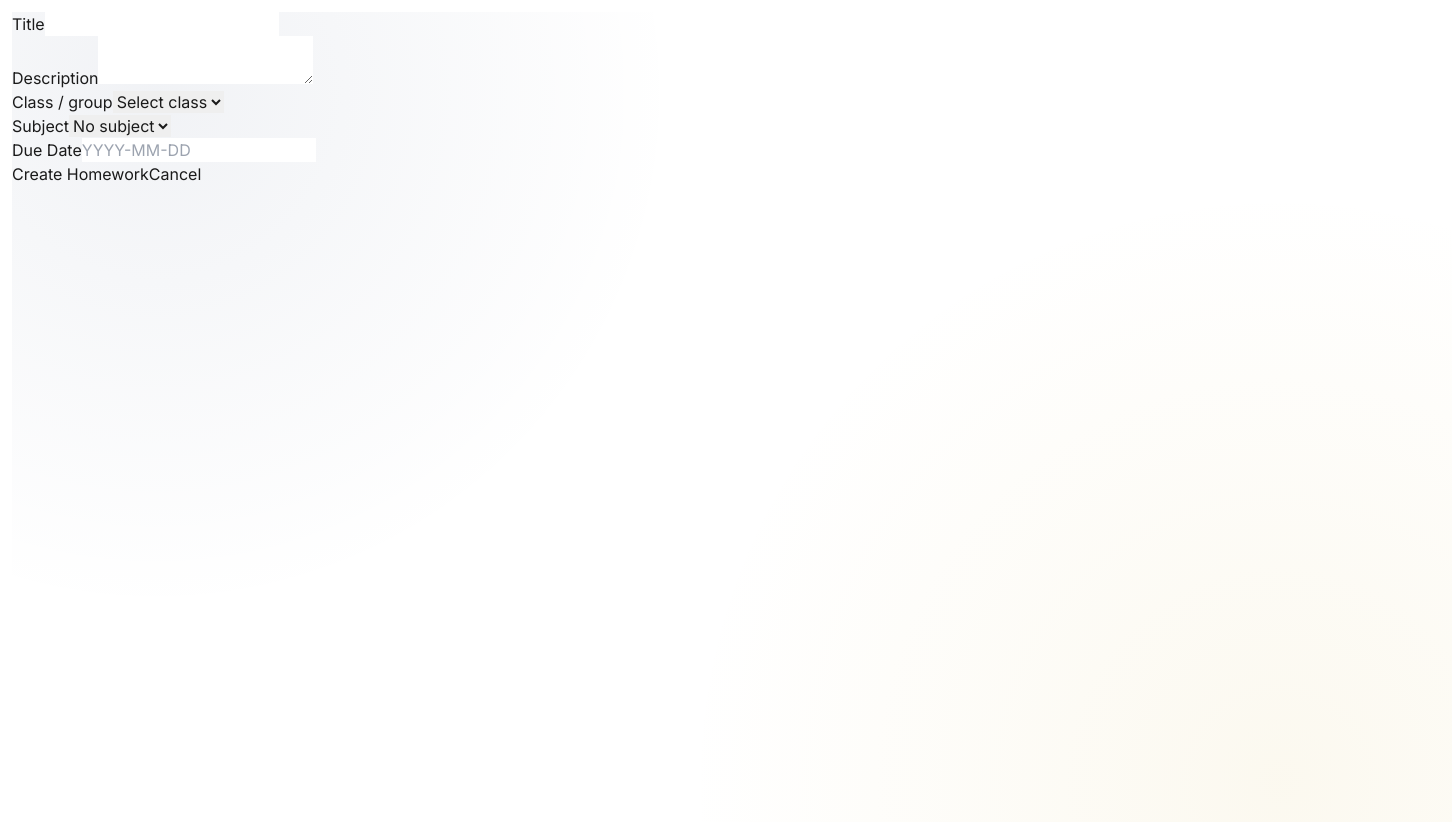
Scenario: Teacher mutation feedback › HomeworkForm shows form error feedback and preserves input on failed submit
Step 1. Type "Essay 1" into the field labelled "Title" → x=162, y=24, box [45,12,279,36]
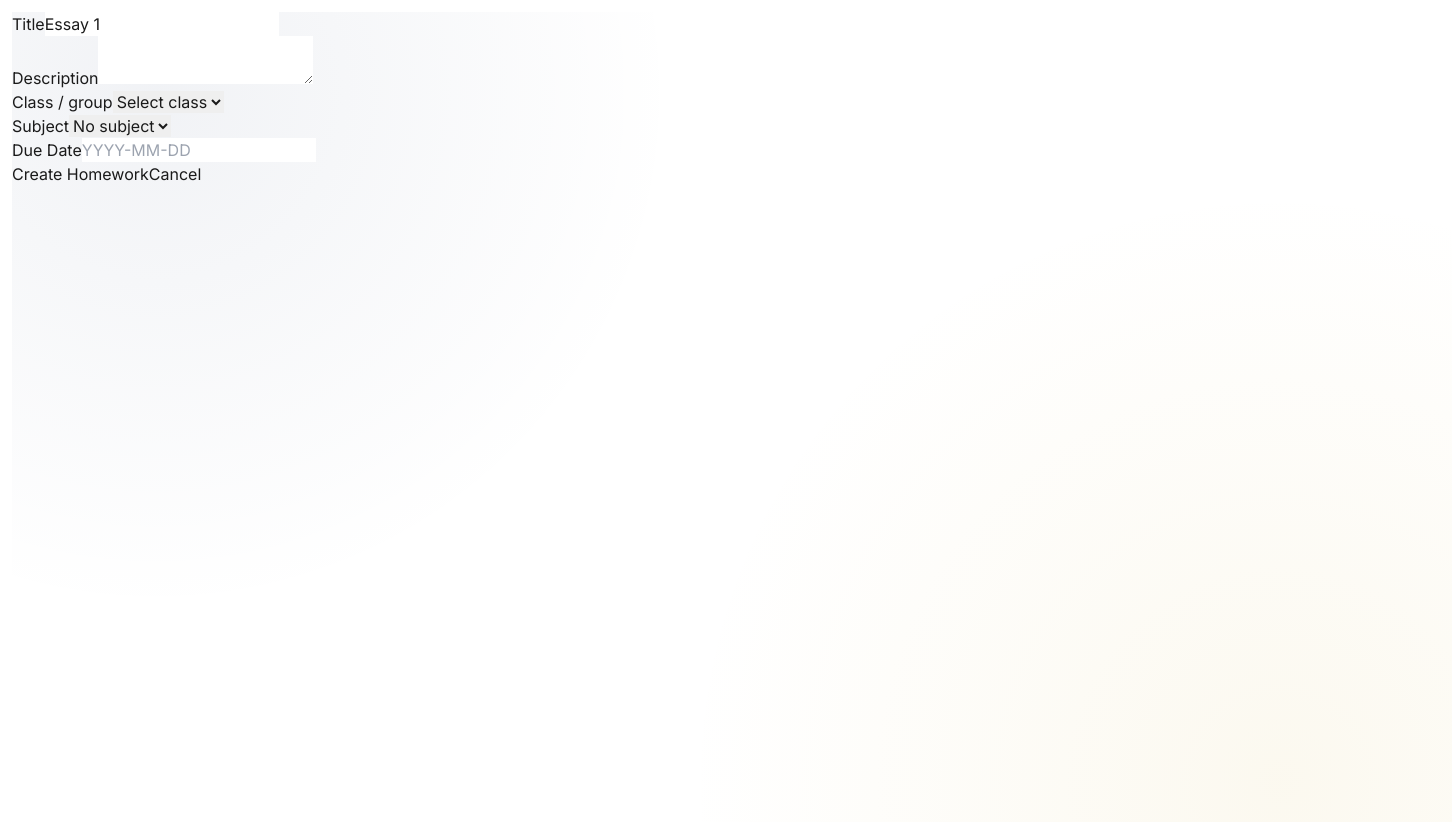
Step 2. Select "Class 1" in the dropdown labelled "Class / group" → x=168, y=102, box [113,91,224,113]
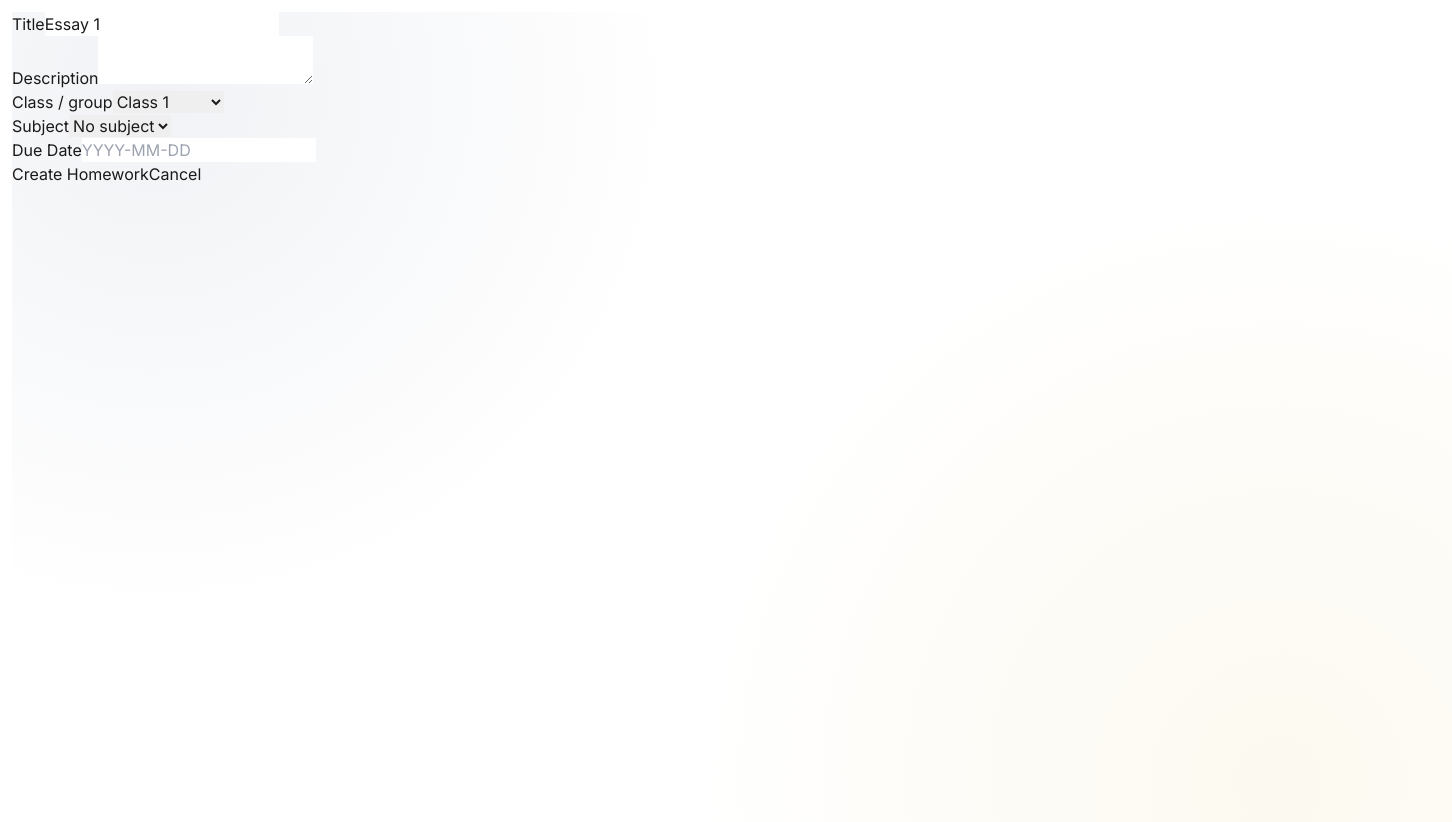
Step 3. Type "2026-05-30" into the field labelled "Due Date" → x=199, y=150, box [82,138,316,162]
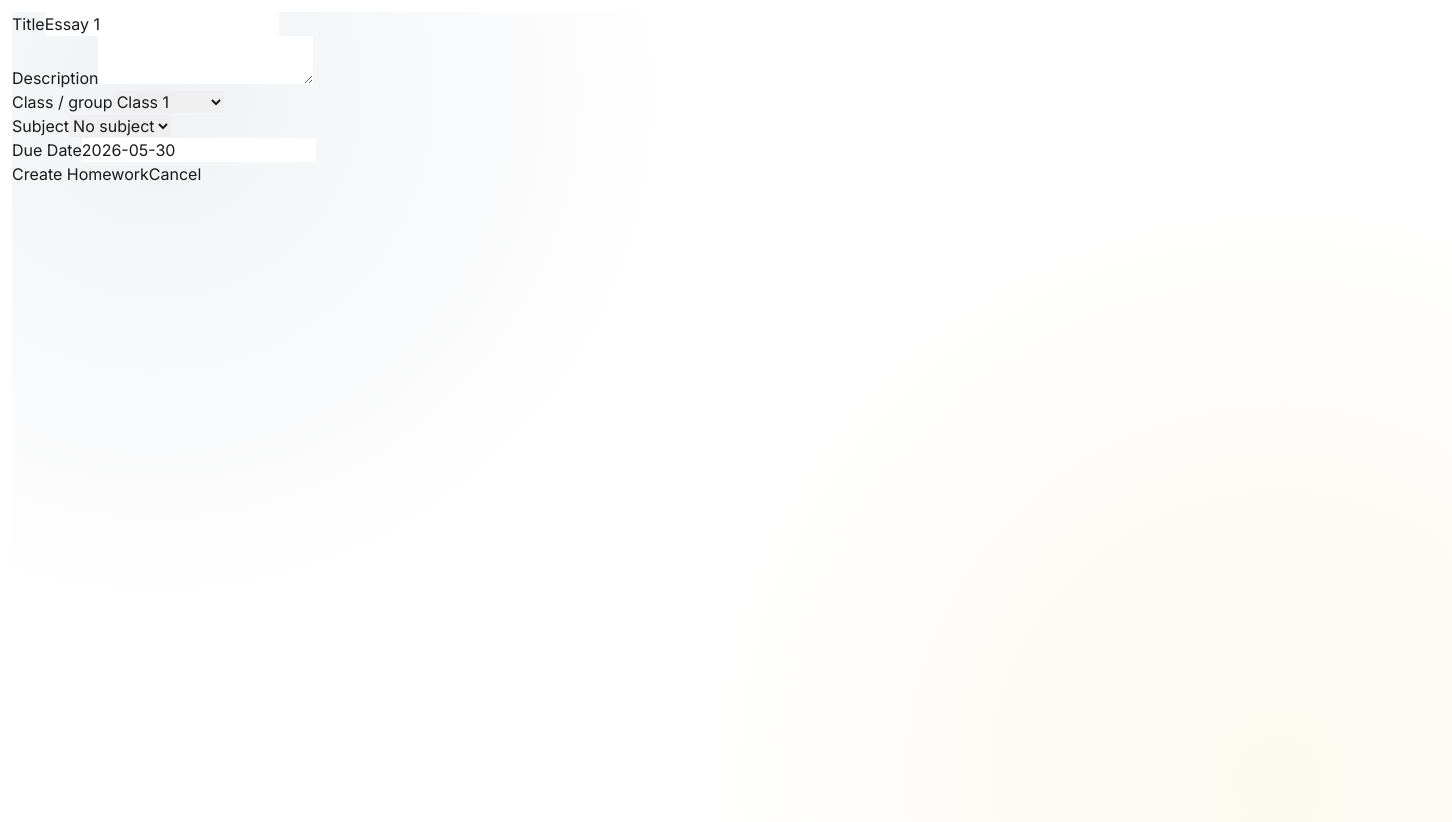
Step 4. Submit the form "Create Homework", box [12,12,316,186]
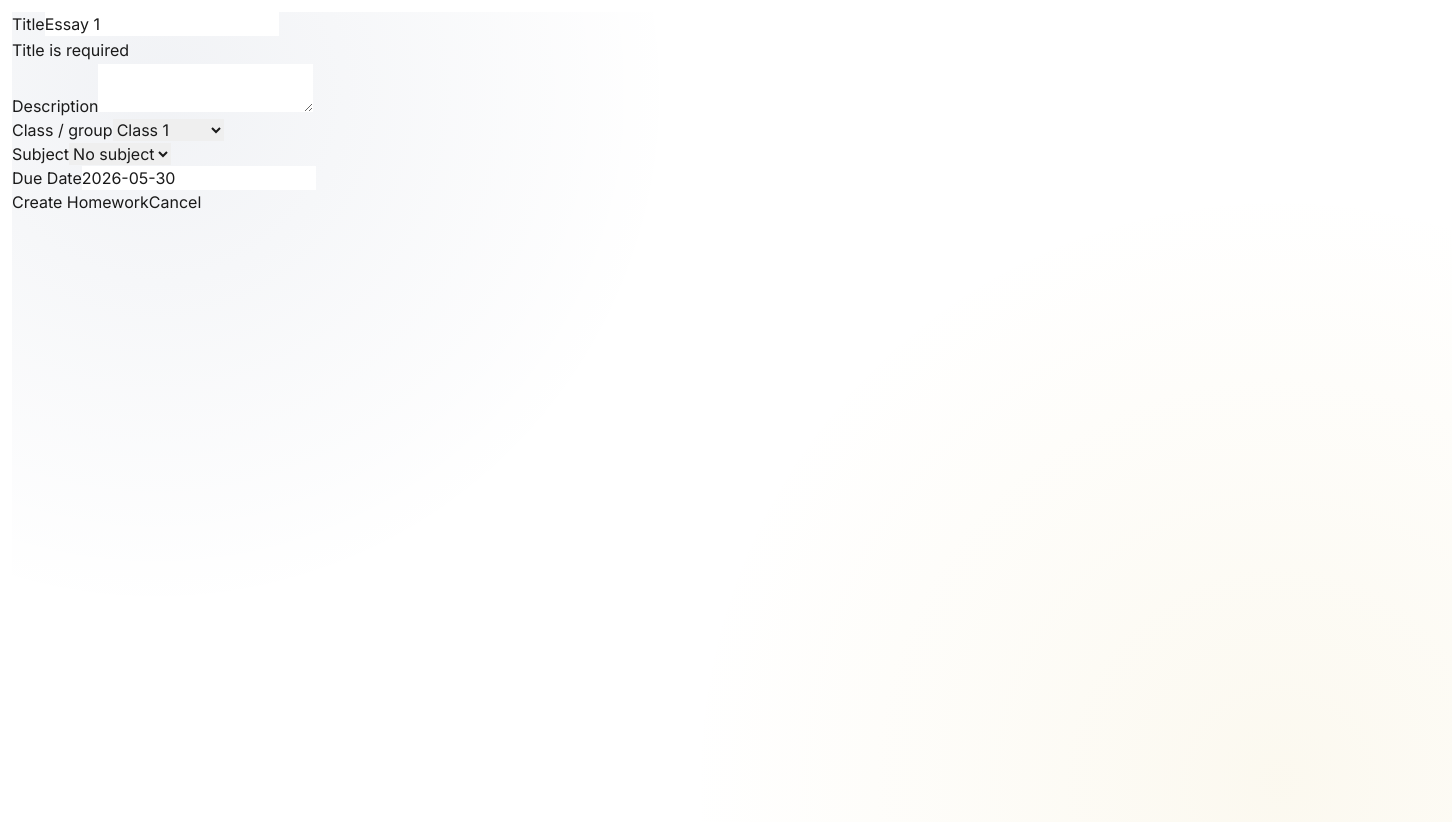
Check: the text "Title is required" is shown, box [12,40,129,60]
